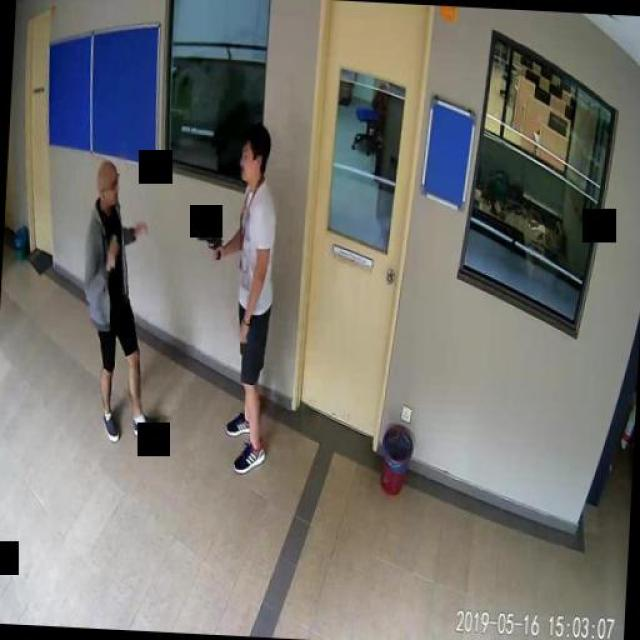gun: (195, 228, 223, 258)
